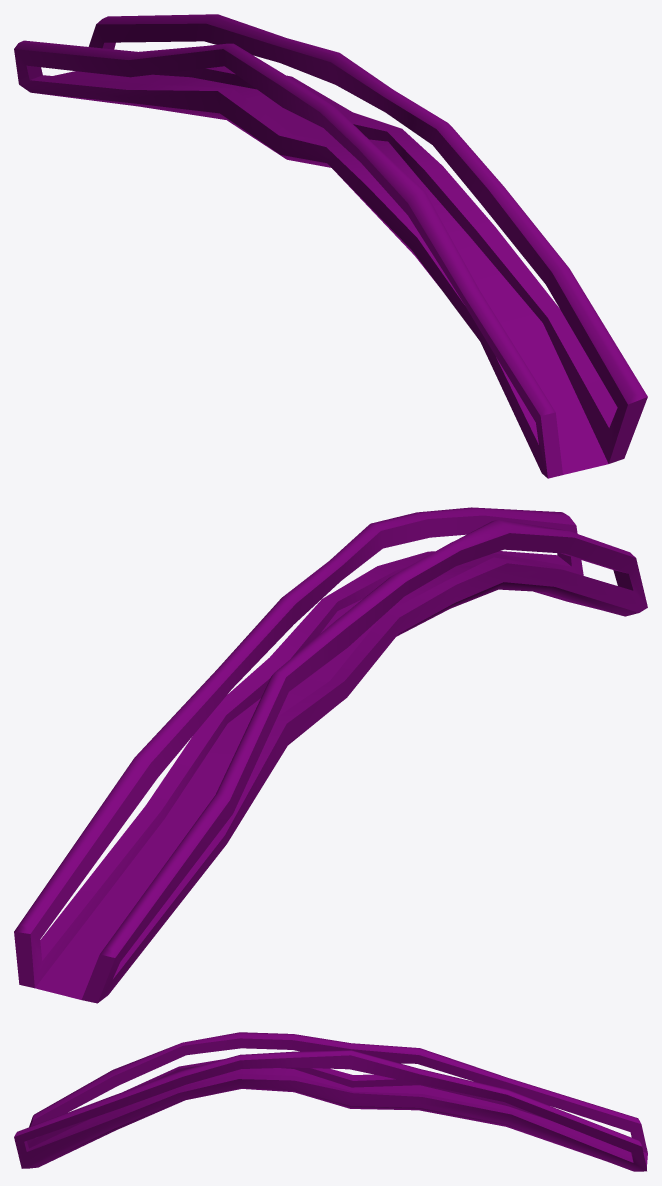
The model's file is ArchedBridge_mesh.fbx.
The picture shows the model from 3 angles, top to bottom: view 1: azimuth 30°, elevation 25°; view 2: azimuth 150°, elevation 25°; view 3: azimuth 270°, elevation 25°; orthographic projection. The views are drawn at different scales.
Parts seen in each view (by area): view 1: ArchedBridge_mesh; view 2: ArchedBridge_mesh; view 3: ArchedBridge_mesh.
Boxes of the visible parts, x1,y1,x2,y2 form: ArchedBridge_mesh: (14,14,647,478); ArchedBridge_mesh: (14,507,647,1003); ArchedBridge_mesh: (14,1032,647,1171).
Bounding box in the file's own units: 7.04 × 12.73 × 62.12.
